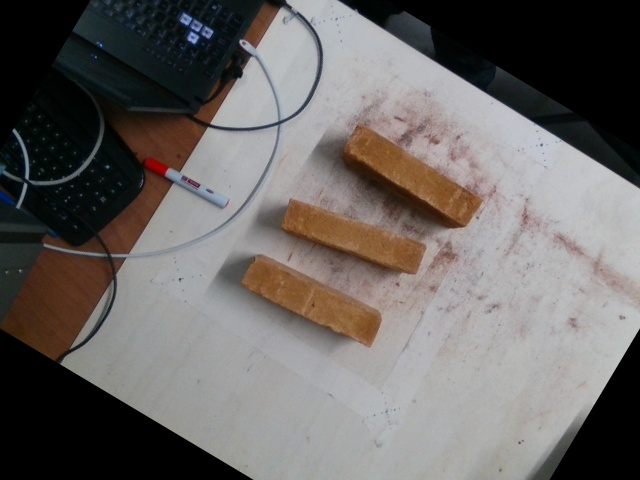brick-side: (347, 124, 481, 223), (243, 260, 382, 343), (281, 199, 422, 271)
